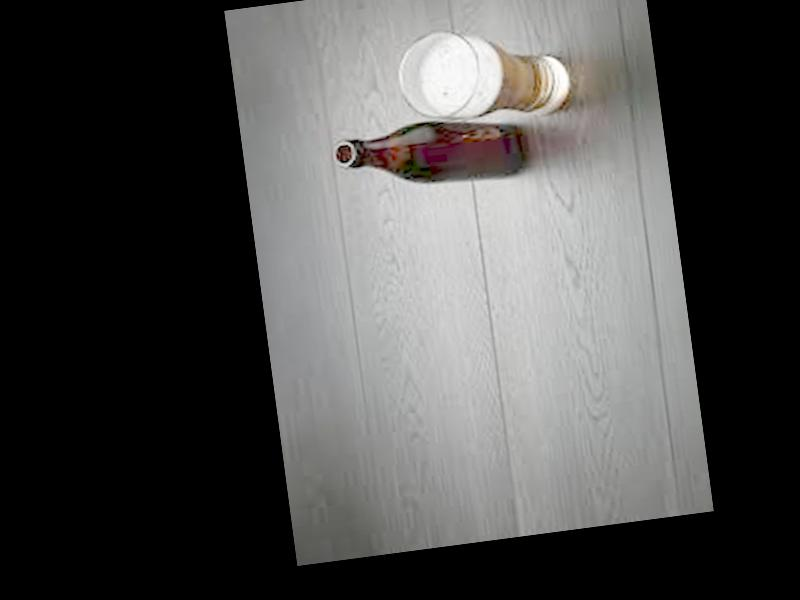Beer: (328, 106, 537, 201)
